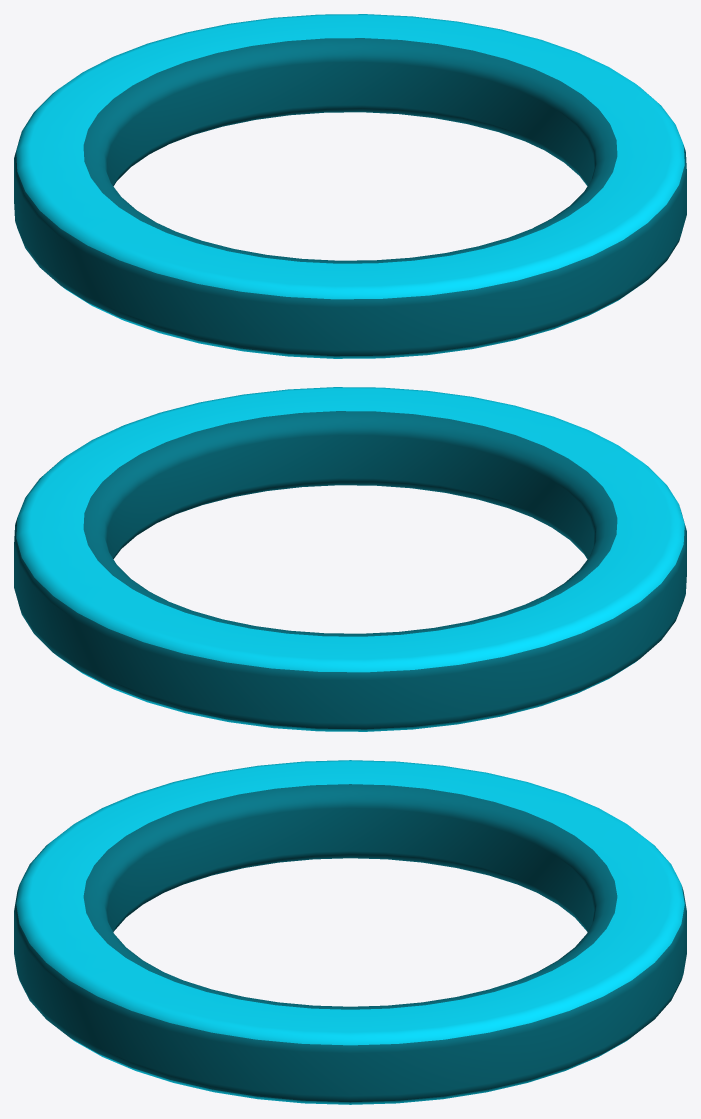
The model's file is Circle_Portal.fbx.
The picture shows the model from 3 angles, top to bottom: view 1: azimuth 30°, elevation 25°; view 2: azimuth 150°, elevation 25°; view 3: azimuth 270°, elevation 25°; orthographic projection.
Parts seen in each view (by area): view 1: Portal_Circle; view 2: Portal_Circle; view 3: Portal_Circle.
Boxes of the visible parts, x1,y1,x2,y2 form: Portal_Circle: [14, 14, 686, 358]; Portal_Circle: [14, 387, 686, 731]; Portal_Circle: [14, 760, 686, 1104].
Size of the model in its own units: 296 by 34.52 by 296.
